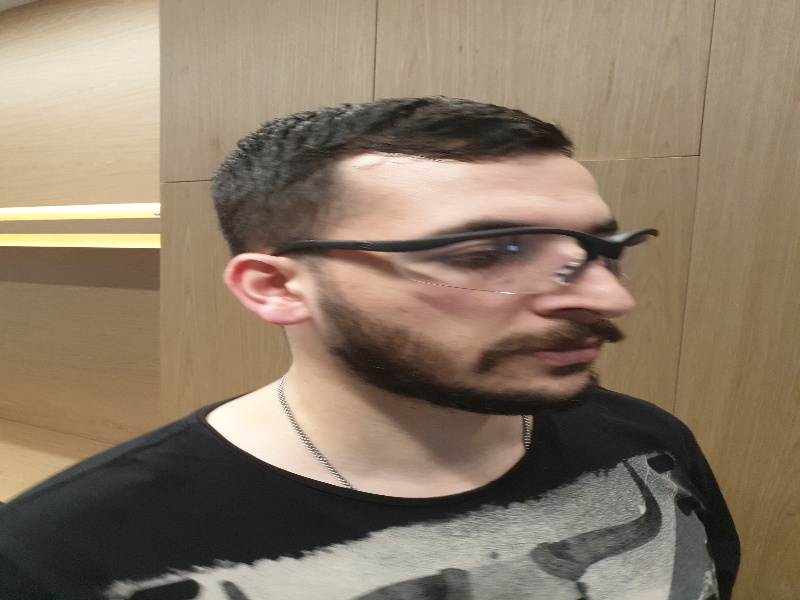Gozluk: (275, 227, 660, 300)
